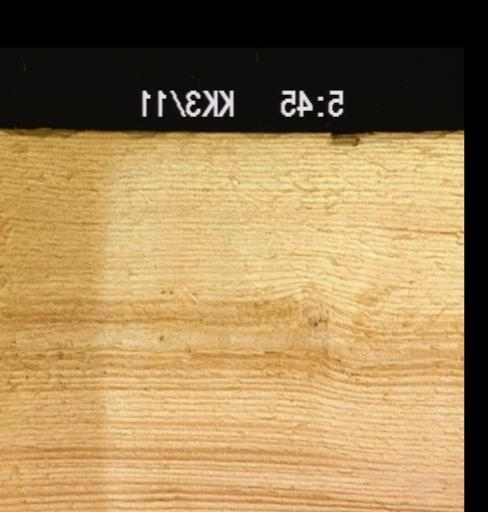wave: (326, 128, 462, 139)
